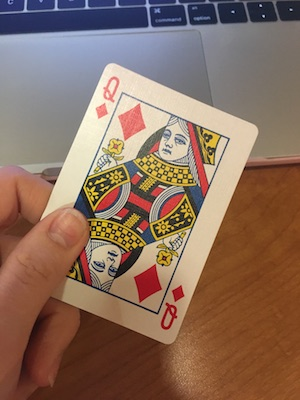QueenOfDiamonds: (32, 60, 261, 348)
